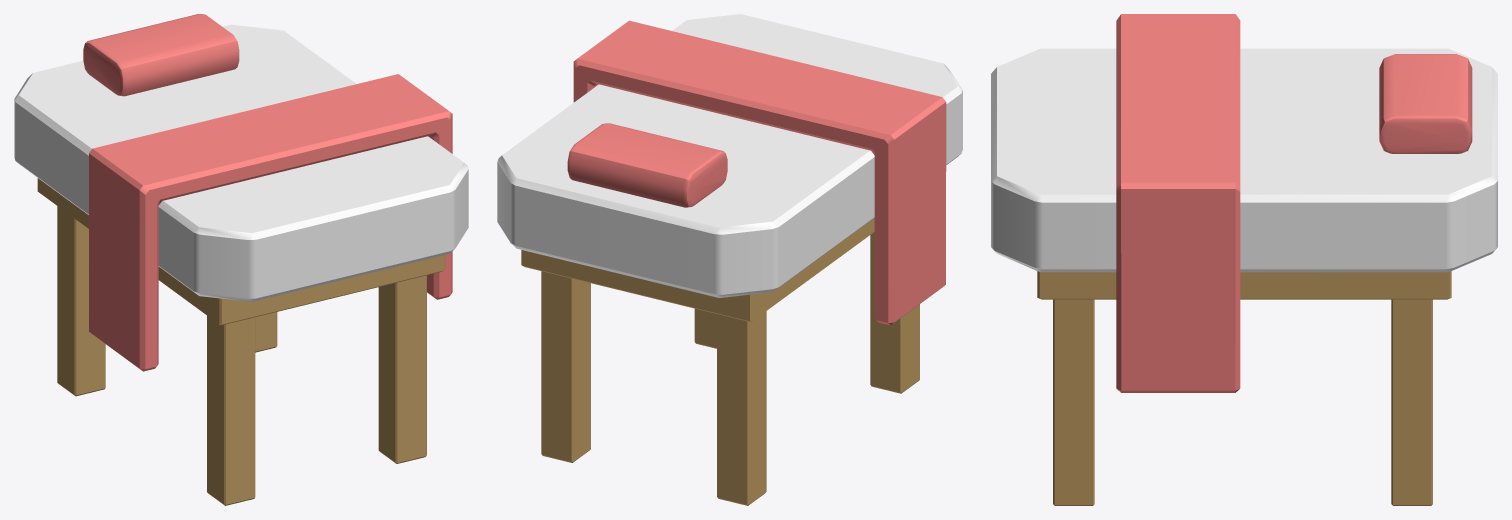
The model's file is Massage_table_02.fbx.
3 renders of one model, left to right at view 1: azimuth 30°, elevation 25°; view 2: azimuth 150°, elevation 25°; view 3: azimuth 270°, elevation 25°, orthographic. The views are drawn at different scales.
Visible parts, largest first — view 1: Bed_02, BedSheet_01, Leg_01_M2, Pillow_02, Leg_01_M1, Leg_01_M3, Leg_01_M, Leg_01_M4; view 2: Bed_02, BedSheet_01, Pillow_02, Leg_01_M3, Leg_01_M4, Leg_01_M, Leg_01_M2, Leg_01_M1; view 3: Bed_02, BedSheet_01, Pillow_02, Leg_01_M1, Leg_01_M4, Leg_01_M.
Part boxes in pixels (x1,y1,x2,y2): Bed_02: [14, 24, 468, 301]; BedSheet_01: [89, 74, 452, 371]; Leg_01_M2: [207, 316, 255, 505]; Pillow_02: [83, 14, 239, 96]; Leg_01_M1: [378, 275, 426, 463]; Leg_01_M3: [57, 206, 105, 396]; Leg_01_M: [37, 178, 445, 325]; Leg_01_M4: [255, 312, 277, 352]; Bed_02: [497, 14, 962, 297]; BedSheet_01: [573, 20, 946, 325]; Pillow_02: [567, 123, 727, 207]; Leg_01_M3: [717, 311, 766, 505]; Leg_01_M4: [541, 271, 590, 462]; Leg_01_M: [521, 218, 874, 321]; Leg_01_M2: [870, 232, 919, 393]; Leg_01_M1: [694, 308, 716, 348]; Bed_02: [991, 48, 1497, 272]; BedSheet_01: [1116, 14, 1240, 392]; Pillow_02: [1379, 54, 1472, 153]; Leg_01_M1: [1053, 299, 1094, 505]; Leg_01_M4: [1391, 299, 1432, 505]; Leg_01_M: [1037, 271, 1451, 299].
Size of the model in its own units: 111 by 110 by 138.
Materials: 1 (1 with a texture image).
